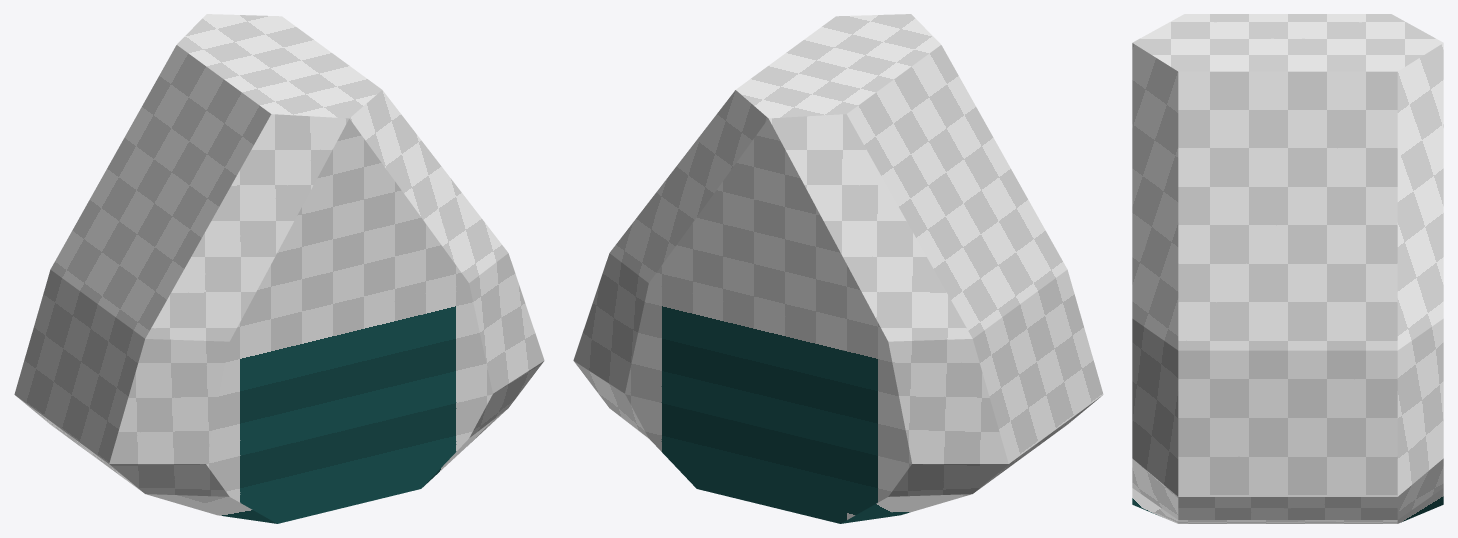
The model's file is rice.fbx.
3 renders of one model, left to right at view 1: azimuth 30°, elevation 25°; view 2: azimuth 150°, elevation 25°; view 3: azimuth 270°, elevation 25°, orthographic. The views are drawn at different scales.
Parts seen in each view (by area): view 1: rice; view 2: rice; view 3: rice.
Boxes of the visible parts, bbox=[...] form: rice: bbox=[14, 14, 544, 523]; rice: bbox=[573, 14, 1103, 523]; rice: bbox=[1132, 14, 1443, 523].
Size of the model in its own units: 87.5 by 75 by 50.
1 material, 1 textured.
